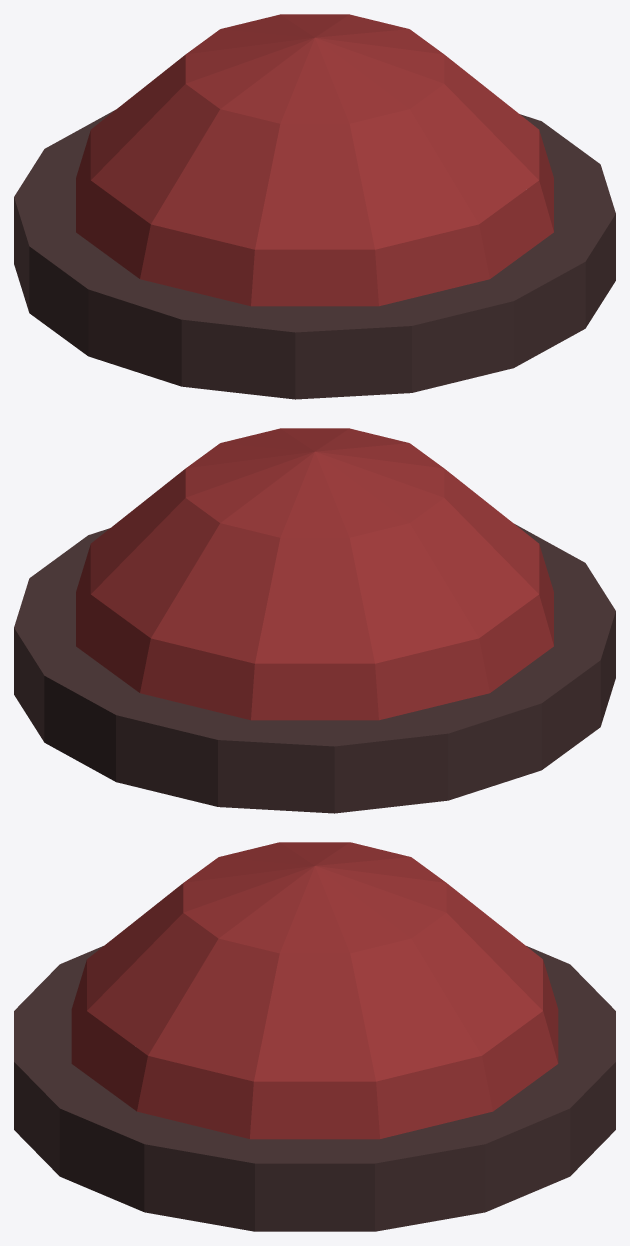
The model's file is PhysicalButton.fbx.
The picture shows the model from 3 angles, top to bottom: view 1: azimuth 30°, elevation 25°; view 2: azimuth 150°, elevation 25°; view 3: azimuth 270°, elevation 25°; orthographic projection.
Parts seen in each view (by area): view 1: sphere, cylinder; view 2: sphere, cylinder; view 3: sphere, cylinder.
Boxes of the visible parts, x1,y1,x2,y2 form: sphere: (76, 14, 553, 306); cylinder: (14, 110, 615, 399); sphere: (76, 428, 553, 720); cylinder: (14, 524, 615, 813); sphere: (71, 842, 558, 1139); cylinder: (14, 946, 615, 1231).
Size of the model in its own units: 50 by 21.88 by 50.
Materials: 1 (1 with a texture image).
